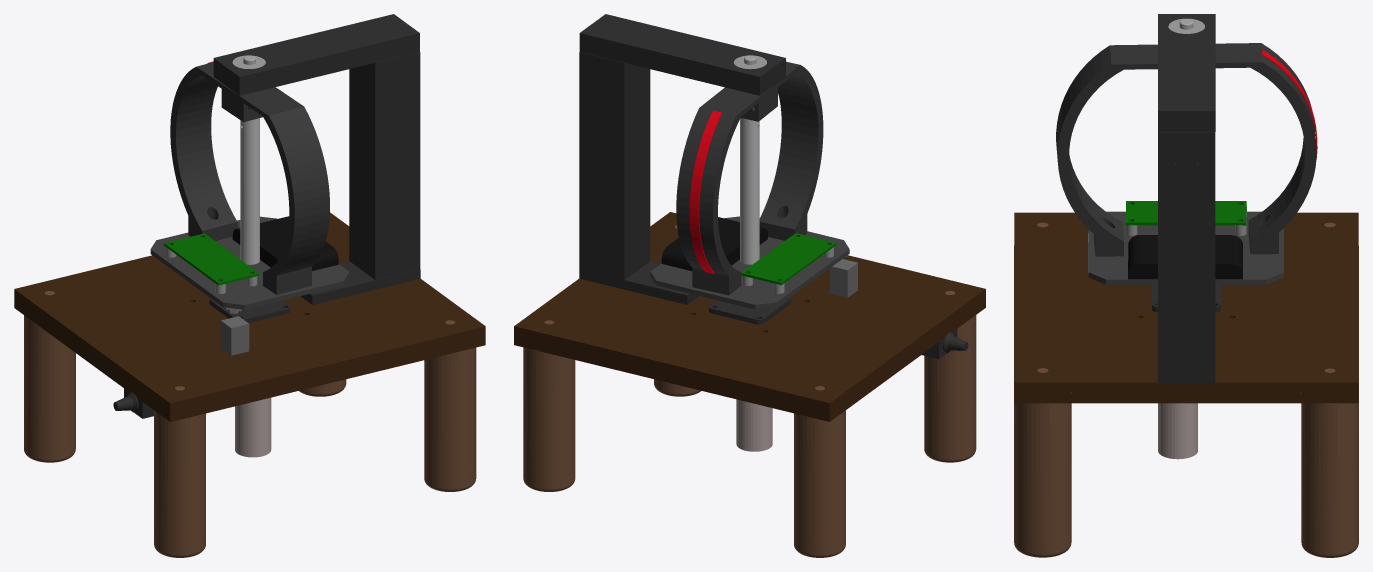
The model's file is assemblage_globe_holo.glb.
3 views of the same model, side by side, from view 1: azimuth 30°, elevation 25°; view 2: azimuth 150°, elevation 25°; view 3: azimuth 270°, elevation 25° (orthographic). The views are drawn at different scales.
Parts seen in each view (by area): view 1: Assem1 - plateau-1, Assem1 - potence-1, Assem1 - arrc_de_cercle-1.001, Assem1 - top_potence-1, Assem1 - arrc_de_cercle-1, Assem1 - pieds-1.002, Assem1 - pieds-1.003, Assem1 - pieds-1.001, Assem1 - base_tournante-1, Assem1 - tube-1, Assem1 - carte_elec-1, Assem1 - moteur-1 (+4 smaller); view 2: Assem1 - plateau-1, Assem1 - potence-1, Assem1 - top_potence-1, Assem1 - arrc_de_cercle-1, Assem1 - arrc_de_cercle-1.001, Assem1 - pieds-1.001, Assem1 - pieds-1, Assem1 - pieds-1.002, Assem1 - base_tournante-1, Assem1 - tube-1, Assem1 - carte_elec-1, Assem1 - moteur-1 (+5 smaller); view 3: Assem1 - plateau-1, Assem1 - potence-1, Assem1 - pieds-1, Assem1 - pieds-1.003, Assem1 - top_potence-1, Assem1 - arrc_de_cercle-1.001, Assem1 - arrc_de_cercle-1, Assem1 - base_tournante-1, Assem1 - piles-1, Assem1 - moteur-1, Assem1 - carte_elec-1, Assem1 - bot_potence-1 (+1 smaller).
Part boxes in pixels (bbox=[...]): Assem1 - plateau-1: bbox=[14, 212, 485, 421]; Assem1 - potence-1: bbox=[349, 52, 420, 279]; Assem1 - arrc_de_cercle-1.001: bbox=[232, 87, 329, 294]; Assem1 - top_potence-1: bbox=[213, 14, 419, 95]; Assem1 - arrc_de_cercle-1: bbox=[170, 62, 237, 240]; Assem1 - pieds-1.002: bbox=[154, 386, 205, 557]; Assem1 - pieds-1.003: bbox=[424, 320, 476, 491]; Assem1 - pieds-1.001: bbox=[24, 291, 75, 462]; Assem1 - base_tournante-1: bbox=[150, 216, 349, 309]; Assem1 - tube-1: bbox=[240, 118, 259, 264]; Assem1 - carte_elec-1: bbox=[164, 233, 258, 285]; Assem1 - moteur-1: bbox=[235, 397, 271, 457]; Assem1 - plateau-1: bbox=[514, 212, 985, 421]; Assem1 - potence-1: bbox=[579, 52, 650, 279]; Assem1 - top_potence-1: bbox=[579, 14, 785, 95]; Assem1 - arrc_de_cercle-1: bbox=[676, 87, 768, 295]; Assem1 - arrc_de_cercle-1.001: bbox=[759, 61, 823, 240]; Assem1 - pieds-1.001: bbox=[794, 386, 845, 557]; Assem1 - pieds-1: bbox=[523, 320, 575, 491]; Assem1 - pieds-1.002: bbox=[924, 290, 976, 462]; Assem1 - base_tournante-1: bbox=[650, 216, 849, 309]; Assem1 - tube-1: bbox=[740, 118, 759, 264]; Assem1 - carte_elec-1: bbox=[741, 233, 836, 285]; Assem1 - moteur-1: bbox=[736, 399, 772, 451]; Assem1 - plateau-1: bbox=[1014, 212, 1358, 403]; Assem1 - potence-1: bbox=[1158, 132, 1215, 371]; Assem1 - pieds-1: bbox=[1301, 368, 1358, 557]; Assem1 - pieds-1.003: bbox=[1014, 368, 1071, 557]; Assem1 - top_potence-1: bbox=[1158, 14, 1215, 131]; Assem1 - arrc_de_cercle-1.001: bbox=[1056, 44, 1157, 256]; Assem1 - arrc_de_cercle-1: bbox=[1215, 43, 1316, 254]; Assem1 - base_tournante-1: bbox=[1088, 211, 1283, 284]; Assem1 - piles-1: bbox=[1128, 235, 1242, 279]; Assem1 - moteur-1: bbox=[1158, 403, 1197, 459]; Assem1 - carte_elec-1: bbox=[1125, 201, 1246, 225]; Assem1 - bot_potence-1: bbox=[1157, 314, 1215, 382].
Bounding box in the file's own units: 370 × 435 × 300.
